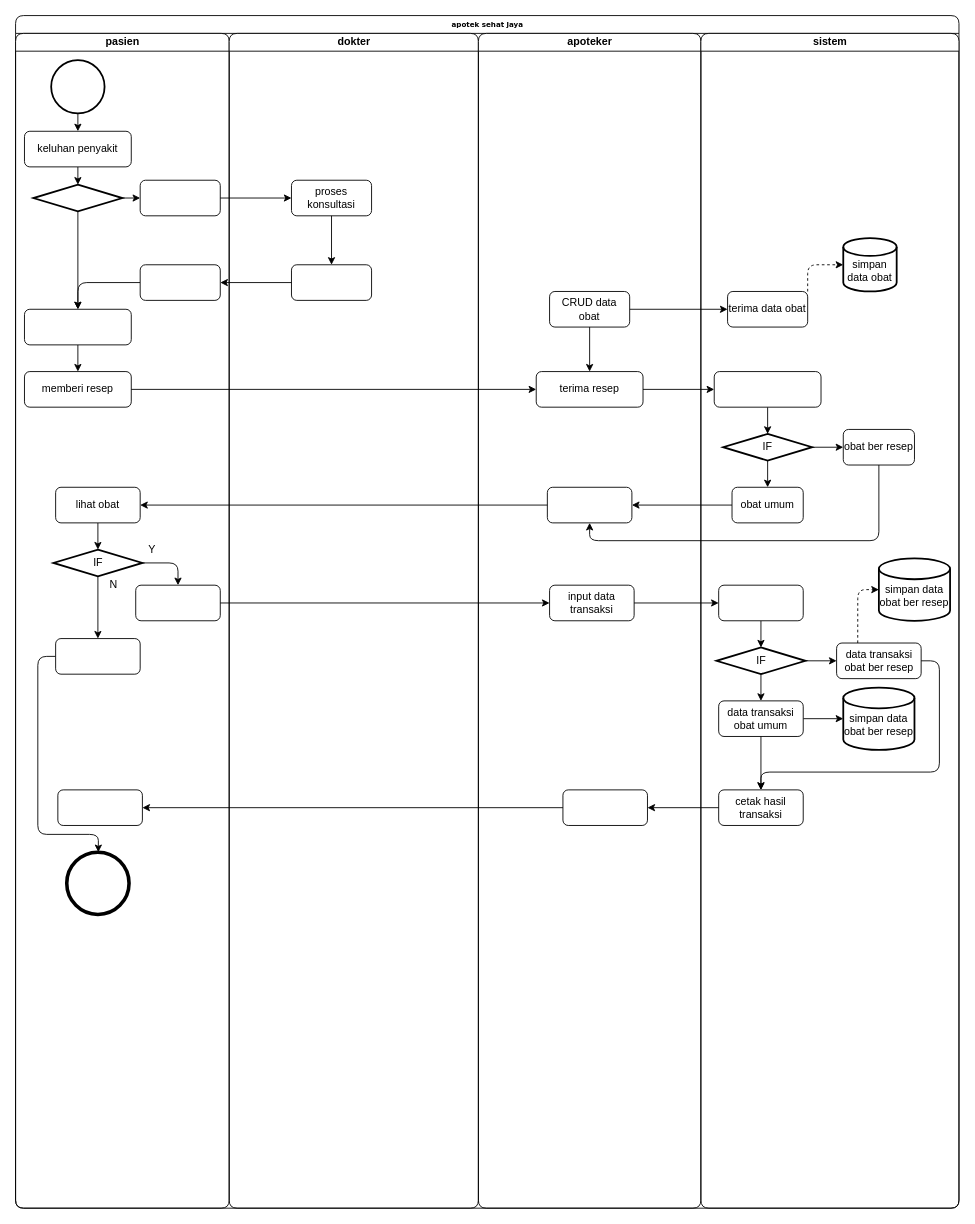
This 975x1224 diagram has some shape labels left out. The centre of each missing label's shape, as x and y in pixels:
"batal transaksi" goes at pixel 97 656.
"beri obat dan bukti transaksi" goes at pixel 604 807.
"bisa" goes at pixel 77 197.
"cek list data obat" goes at pixel 767 389.
"lakukan transaksi" goes at pixel 177 602.
"memberi resep obat" goes at pixel 331 282.
"menunjukkan obat" goes at pixel 589 504.
"pergi ke apotek" goes at pixel 77 326.
"pergi ke dokter" goes at pixel 179 197.
"terima data transaksi" goes at pixel 760 602.
"terima obat dan bukti transaksi" goes at pixel 99 807.
"terima resep obat" goes at pixel 179 282.
